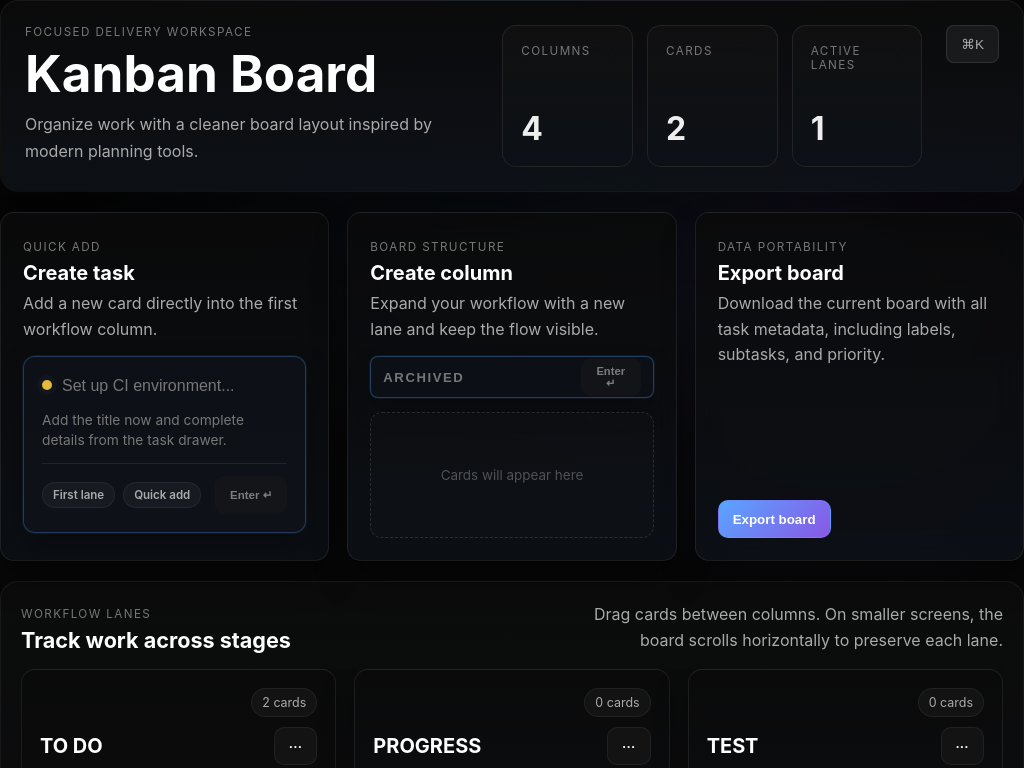
Scenario: navigates command palette with arrow keys and enter
Press k
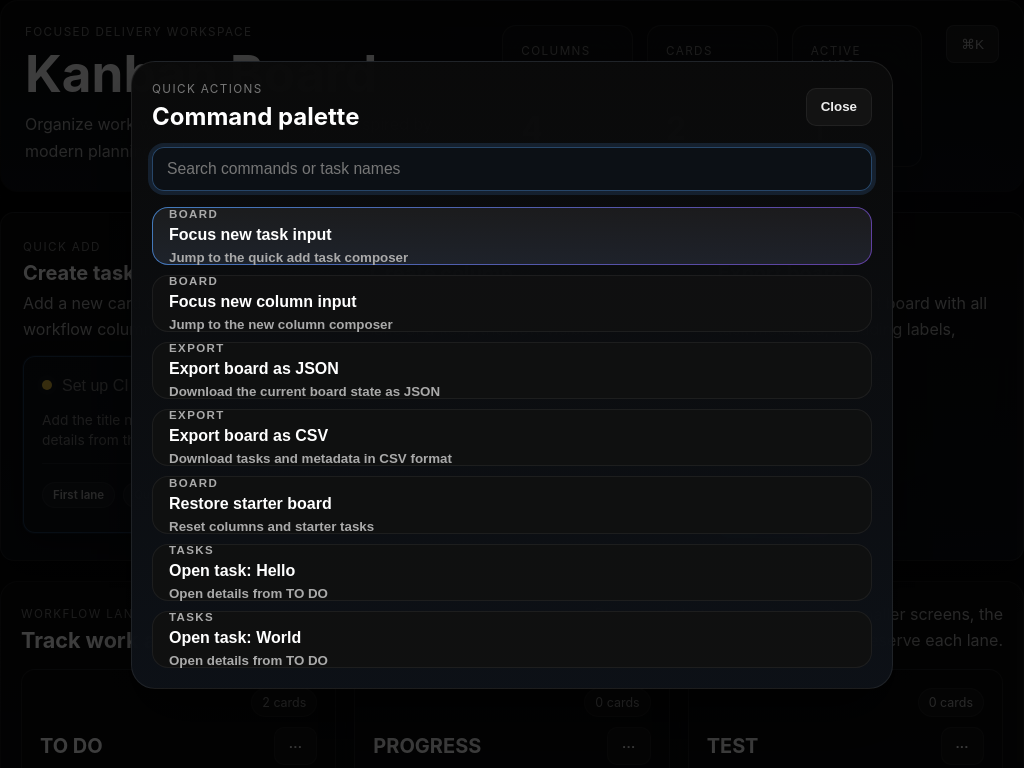
Type "focus" into the field labelled "Search commands or task names".
click(512, 169); type("focus")  # box [152,147,872,191]
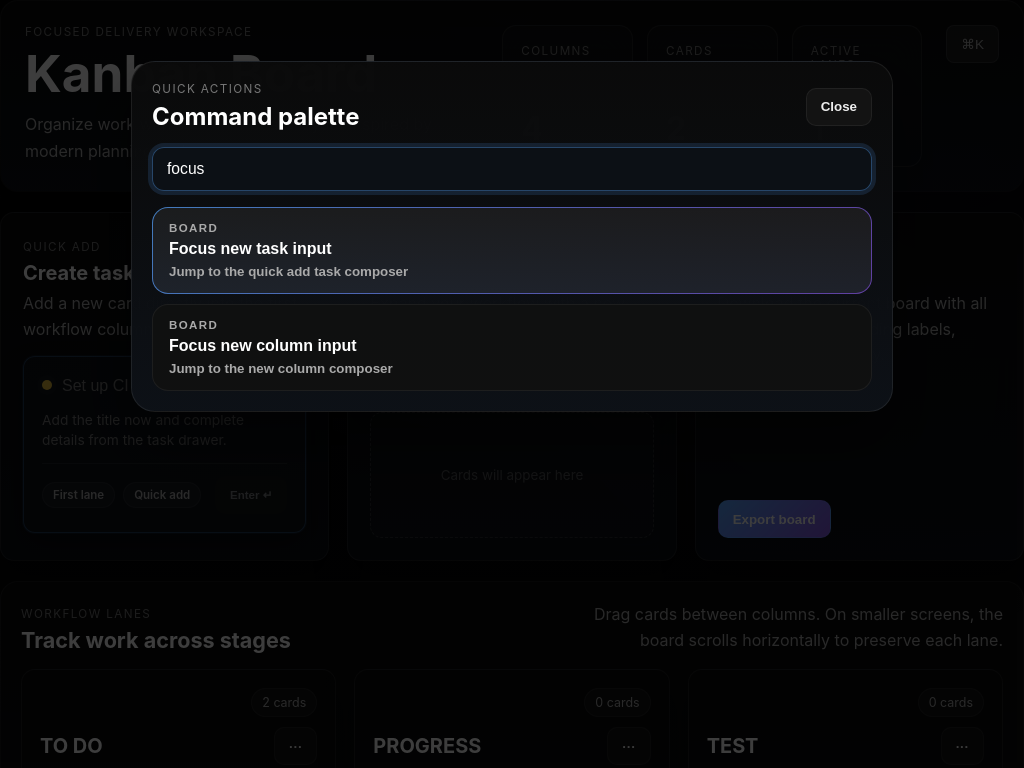
Press ArrowDown in the field named "Search commands", box [152,147,872,191]
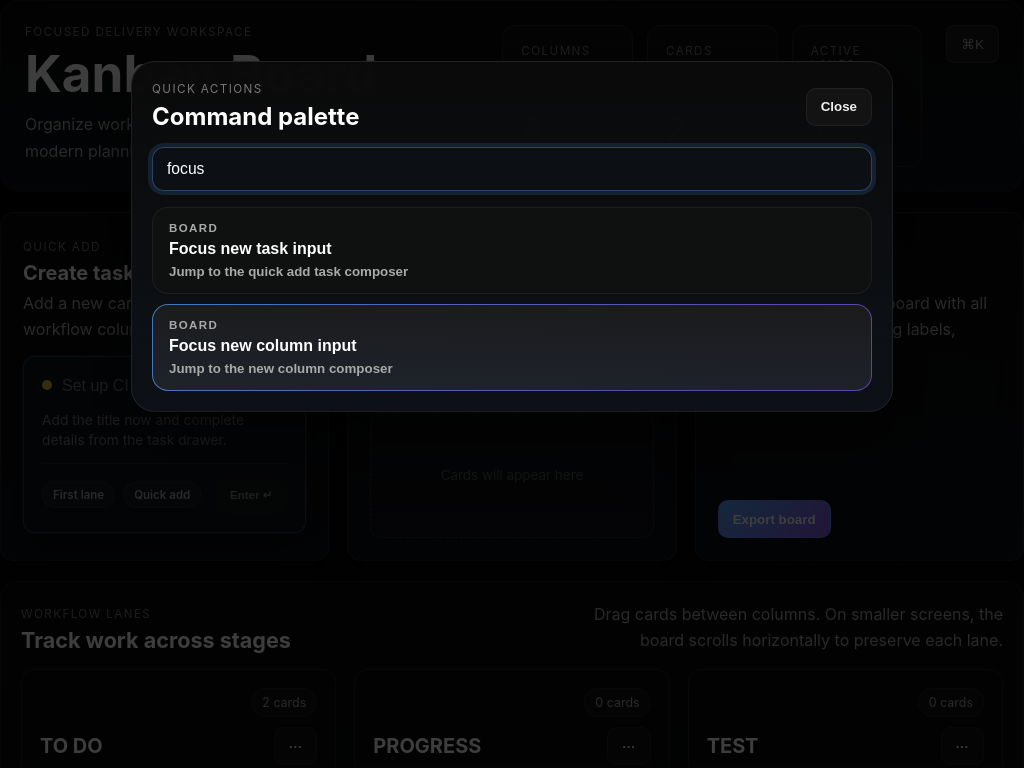
Press Enter in the field named "Search commands", box [152,147,872,191]
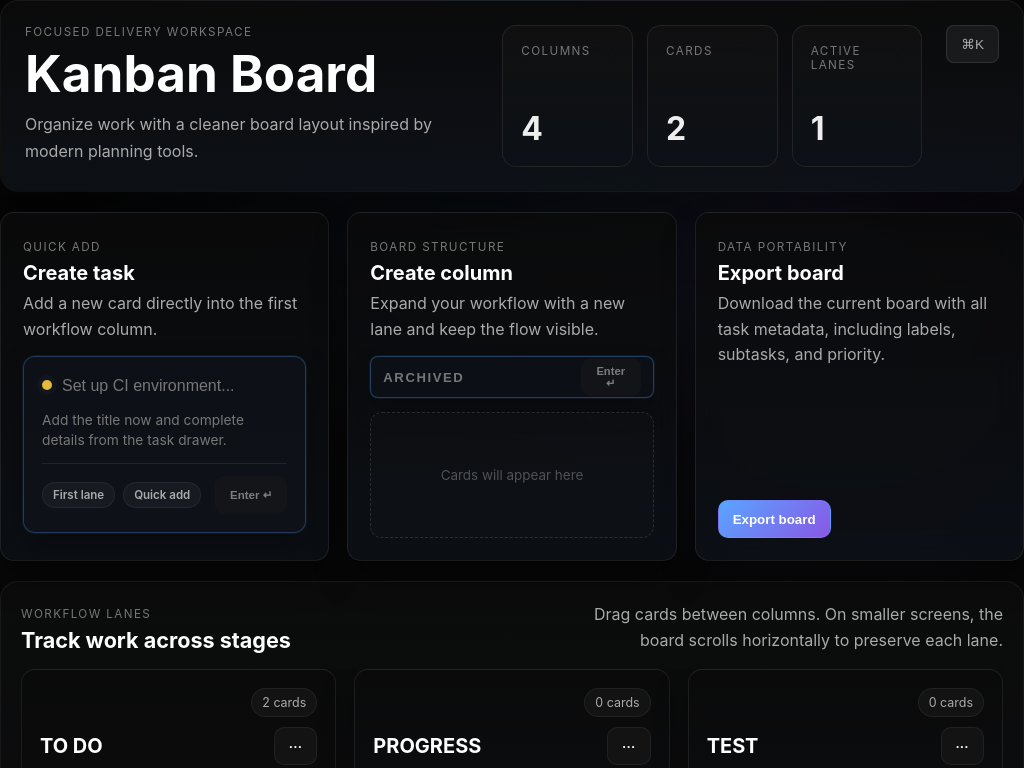
Expected: the heading "Command palette" is gone
